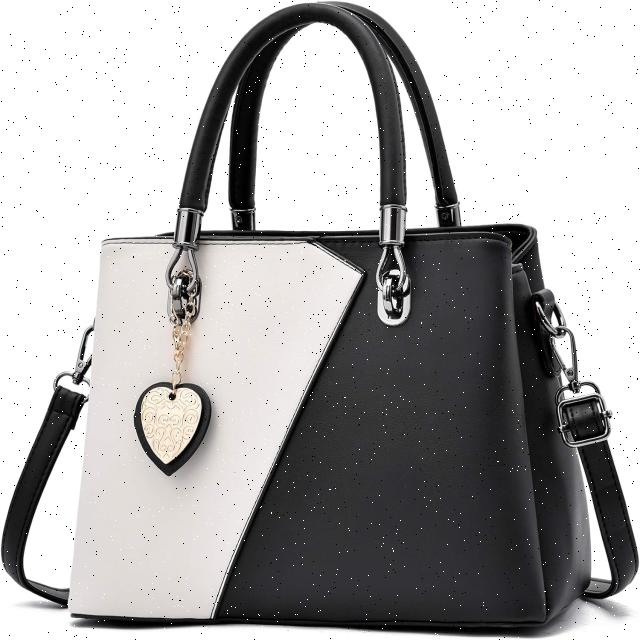handbag: (2, 1, 637, 631)
